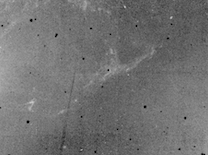Halpha: (10, 33, 176, 127)
